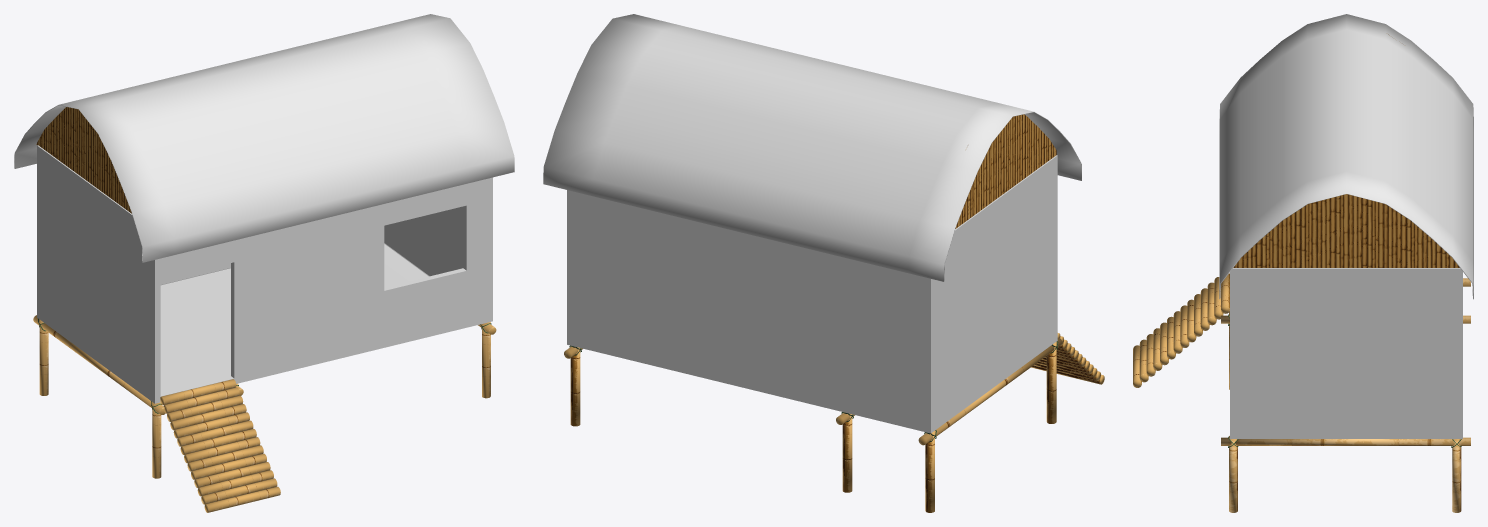
File: house1.fbx
3 renders of one model, left to right at view 1: azimuth 30°, elevation 25°; view 2: azimuth 150°, elevation 25°; view 3: azimuth 270°, elevation 25°, orthographic. The views are drawn at different scales.
Visible parts, largest first — view 1: house-1; view 2: house-1; view 3: house-1.
Boxes of the visible parts, bbox=[...] form: house-1: bbox=[14, 14, 514, 512]; house-1: bbox=[543, 14, 1104, 512]; house-1: bbox=[1133, 14, 1473, 512].
Bounding box in the file's own units: 1282 × 1092 × 1028.
